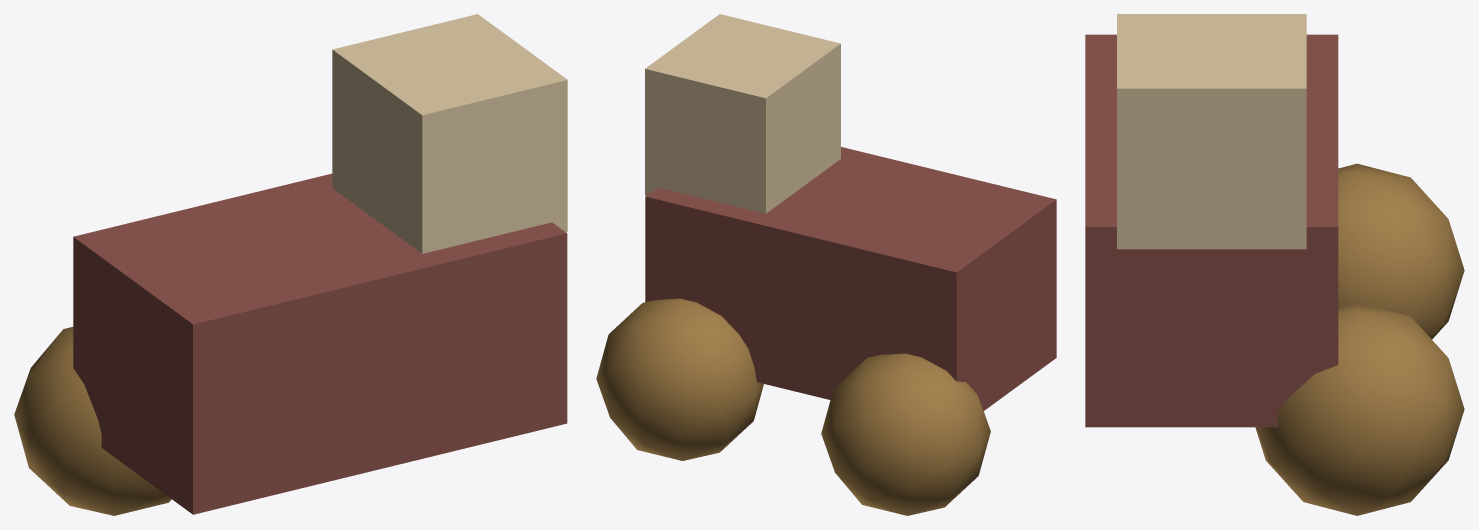
Rendered from toy.glb.
The picture shows the model from 3 angles, left to right: view 1: azimuth 30°, elevation 25°; view 2: azimuth 150°, elevation 25°; view 3: azimuth 270°, elevation 25°; orthographic projection. The views are drawn at different scales.
Parts seen in each view (by area): view 1: toy; view 2: toy; view 3: toy.
Boxes of the visible parts, x1,y1,x2,y2 form: toy: (14,14,567,515); toy: (596,14,1056,515); toy: (1085,14,1464,515).
Bounding box in the file's own units: 0.86 × 0.79 × 0.6.
